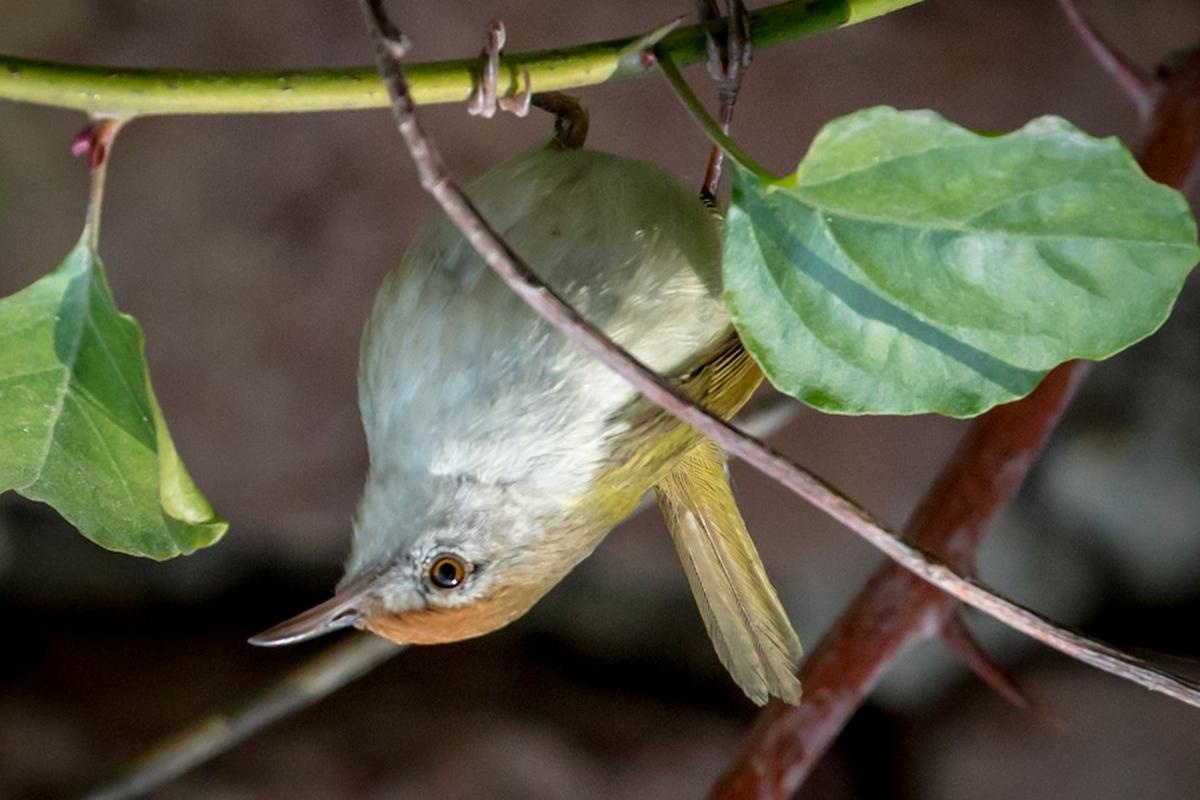tailorbird: (186, 166, 789, 706)
